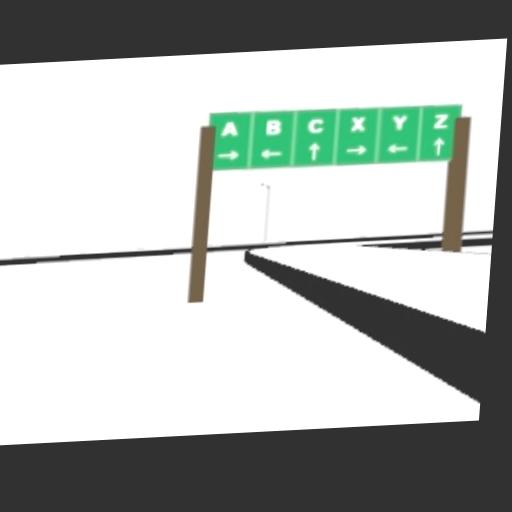A: (220, 120, 239, 135)
B: (264, 118, 281, 135)
C: (306, 118, 323, 133)
Left: (387, 141, 408, 153), (259, 148, 282, 158)
Right: (217, 149, 239, 161), (345, 143, 366, 155)
Straight: (306, 141, 319, 161), (432, 135, 445, 154)
X: (350, 114, 365, 132)
Y: (390, 113, 407, 130)
Z: (433, 113, 450, 128)
